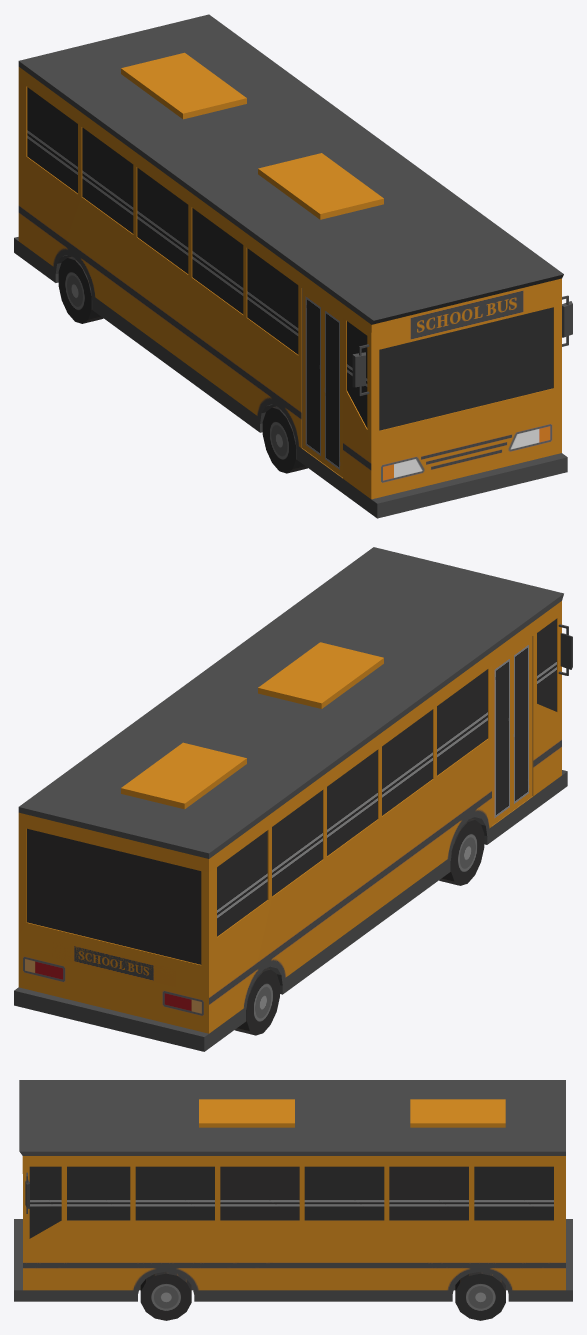
Rendered from Car_YellowSchoolBus.glb.
3 views of the same model, one above another, from view 1: azimuth 30°, elevation 25°; view 2: azimuth 150°, elevation 25°; view 3: azimuth 270°, elevation 25° (orthographic). The views are drawn at different scales.
Parts seen in each view (by area): view 1: Object_131.001; view 2: Object_131.001; view 3: Object_131.001.
Boxes of the visible parts, left/top/right/bottom form: Object_131.001: left=14, top=14, right=572, bottom=518; Object_131.001: left=14, top=547, right=572, bottom=1051; Object_131.001: left=14, top=1080, right=572, bottom=1320.
Size of the model in its own units: 3.68 by 3.63 by 10.57.
1 material, 1 textured.
